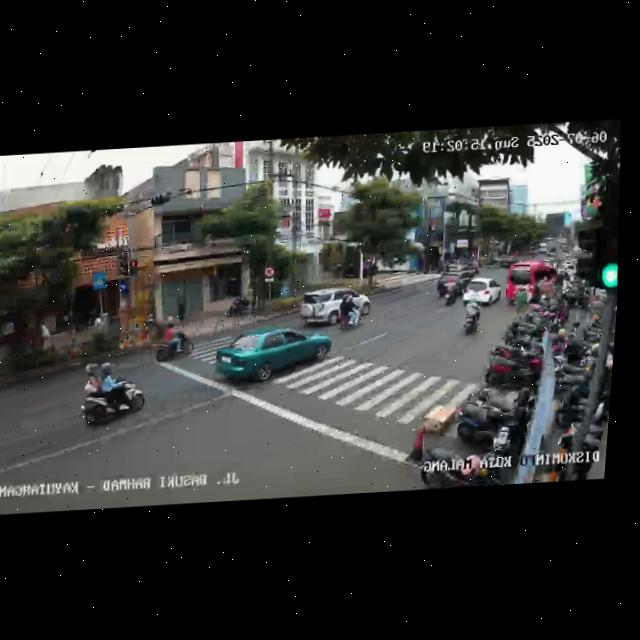car: (209, 323, 334, 393), (297, 284, 366, 327), (503, 259, 559, 307), (460, 277, 504, 308), (435, 270, 475, 301)
motorcycle: (75, 363, 150, 432), (151, 319, 192, 365), (335, 292, 366, 332), (459, 298, 484, 337), (440, 279, 460, 310)
